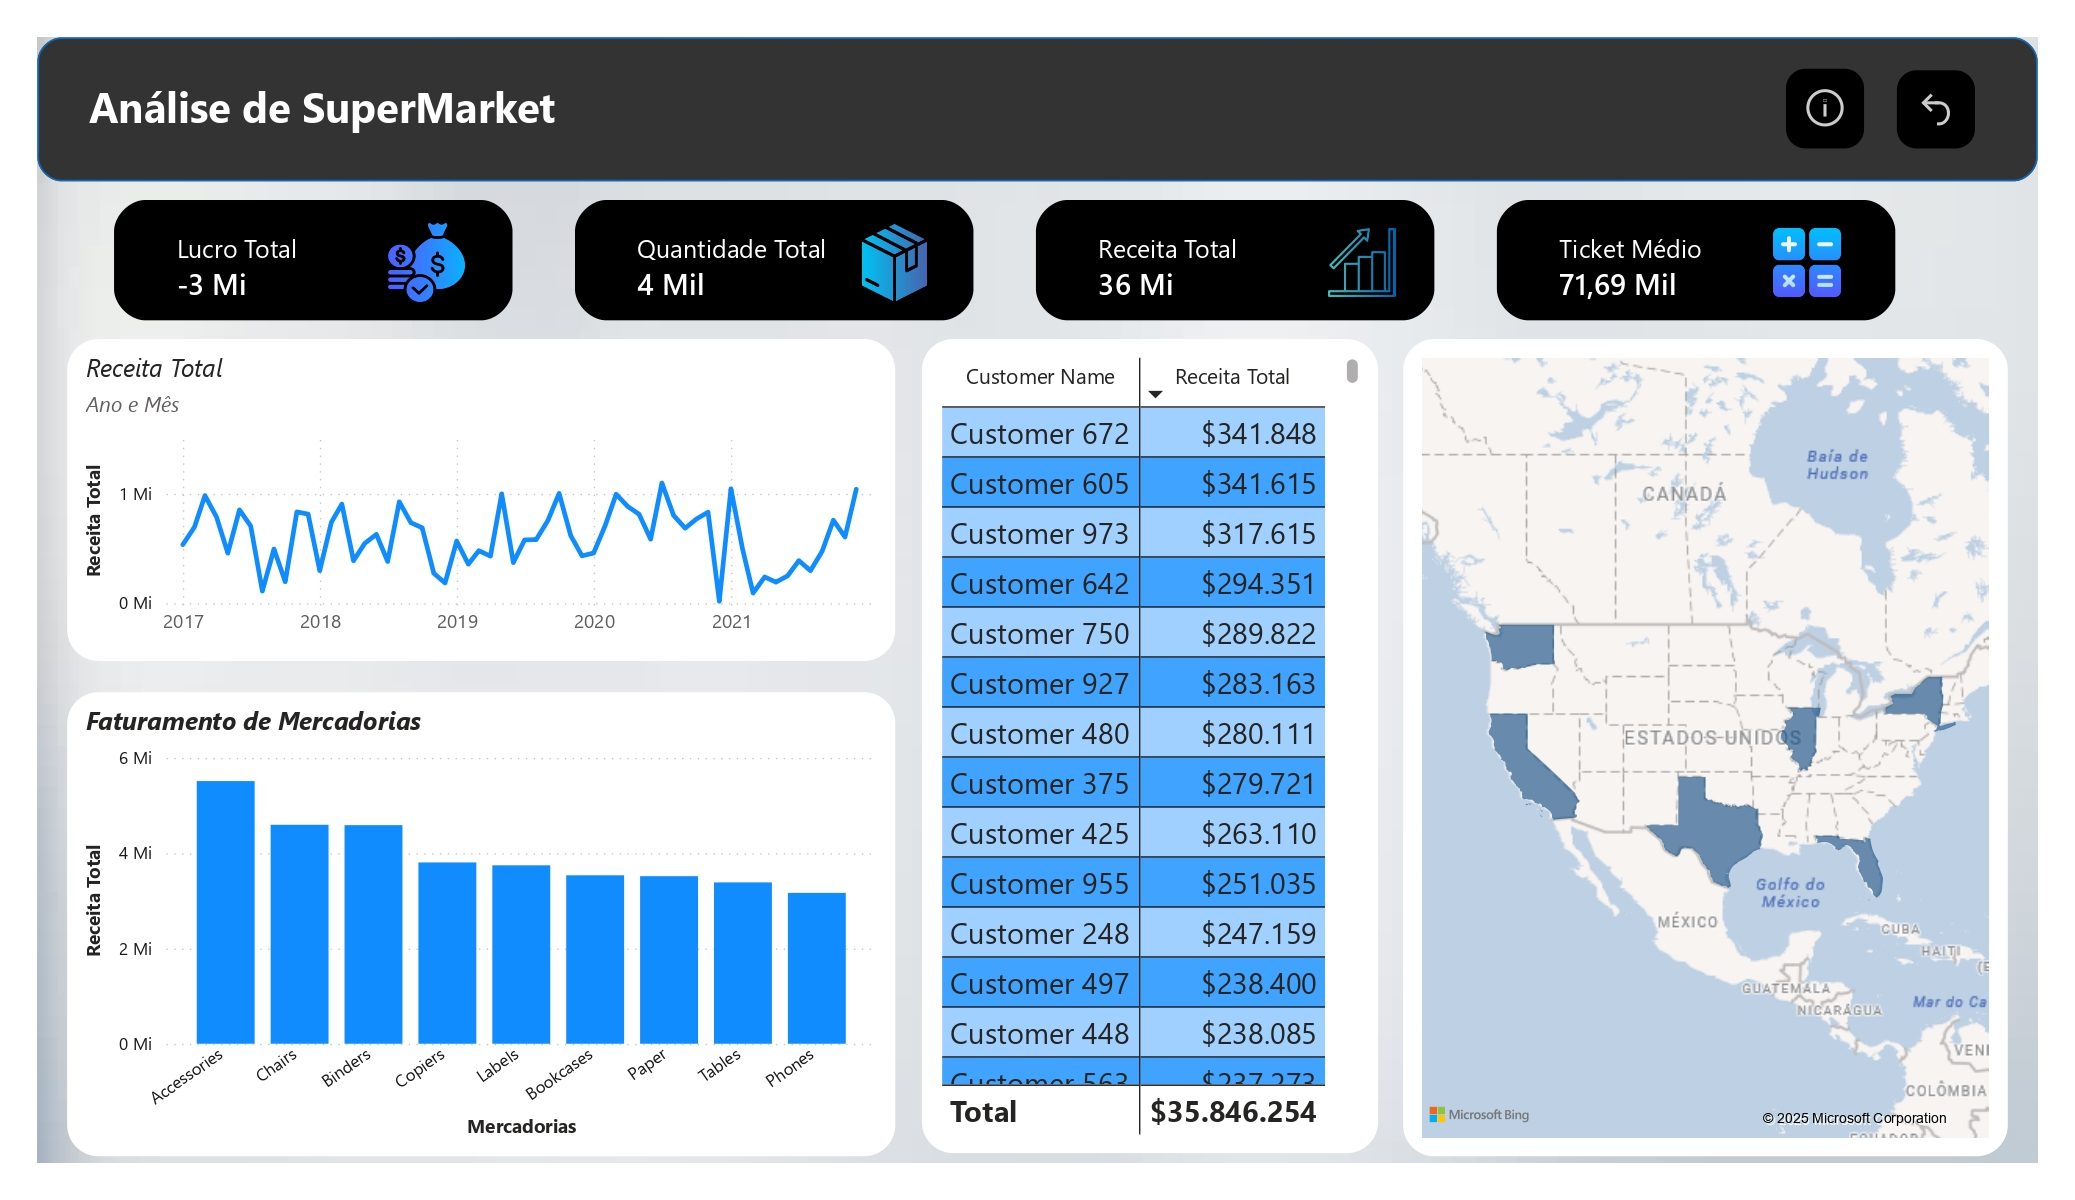

The page's visual inventory and layout, read from the dashboard file:
{"tool":"powerbi","page":{"name":"Página 2","canvas":[1280,720],"ordinal":0},"visuals":[{"type":"clusteredColumnChart","title":"Faturamento de Mercadorias","fields":{"Y":["Superstore_REAL_sample_500.Receita Total"],"Category":["Superstore_REAL_sample_500.Sub-Category"]},"box":[18.7,419,529.9,296.6],"z":0},{"type":"lineChart","title":"Receita Total","fields":{"Y":["Superstore_REAL_sample_500.Receita Total"],"Category":["Superstore_REAL_sample_500.Order Date.Variation.Hierarquia de datas.Ano","Superstore_REAL_sample_500.Order Date.Variation.Hierarquia de datas.Mês"]},"box":[18.7,193,529.9,205.9],"z":1000},{"type":"filledMap","title":"Receita por Estado","fields":{"Category":["Superstore_REAL_sample_500.State"]},"box":[874.1,193,387.4,522.7],"z":2000},{"type":"shape","box":[0,0,1280,92],"z":3000},{"type":"actionButton","title":"info_button","box":[1118.9,20.2,50.4,50.4],"z":4000},{"type":"textbox","box":[13,5.8,535.7,80.6],"z":5000},{"type":"cardVisual","title":"Cards","fields":{"Data":["Superstore_REAL_sample_500.Lucro Total","Superstore_REAL_sample_500.Quantidade Total","Superstore_REAL_sample_500.Receita Total","Superstore_REAL_sample_500.Ticket Médio"]},"box":[28.8,103.7,1186.4,77.8],"z":6000},{"type":"tableEx","fields":{"Values":["Superstore_REAL_sample_500.Customer Name","Superstore_REAL_sample_500.Receita Total"]},"box":[565.5,193,292.9,521.5],"z":7000},{"type":"actionButton","title":"reset_button","box":[1190.4,20.7,50,50],"z":8000},{"type":"image","box":[1105.8,116.6,53.3,54.7],"z":9000},{"type":"image","box":[217.4,113.7,63.4,60.5],"z":10000},{"type":"image","box":[522.7,113.7,51.8,60.5],"z":11000},{"type":"image","box":[820.7,116.6,53.3,54.7],"z":12000}]}

Visuals, with their boxes in screenshot pixels (x1, y1, x2, y2):
"Faturamento de Mercadorias" clusteredColumnChart: pyautogui.locateOnScreen(67, 692, 895, 1156)
"Receita Total" lineChart: pyautogui.locateOnScreen(67, 339, 895, 661)
"Receita por Estado" filledMap: pyautogui.locateOnScreen(1403, 339, 2009, 1156)
shape: pyautogui.locateOnScreen(38, 38, 2038, 181)
"info_button" actionButton: pyautogui.locateOnScreen(1786, 69, 1865, 148)
textbox: pyautogui.locateOnScreen(58, 47, 895, 172)
"Cards" cardVisual: pyautogui.locateOnScreen(82, 200, 1936, 321)
tableEx - Superstore_REAL_sample_500.Customer Name x Superstore_REAL_sample_500.Receita Total: pyautogui.locateOnScreen(921, 339, 1379, 1154)
"reset_button" actionButton: pyautogui.locateOnScreen(1898, 70, 1976, 148)
image: pyautogui.locateOnScreen(1765, 220, 1849, 305)
image: pyautogui.locateOnScreen(377, 215, 476, 310)
image: pyautogui.locateOnScreen(854, 215, 935, 310)
image: pyautogui.locateOnScreen(1320, 220, 1403, 305)
